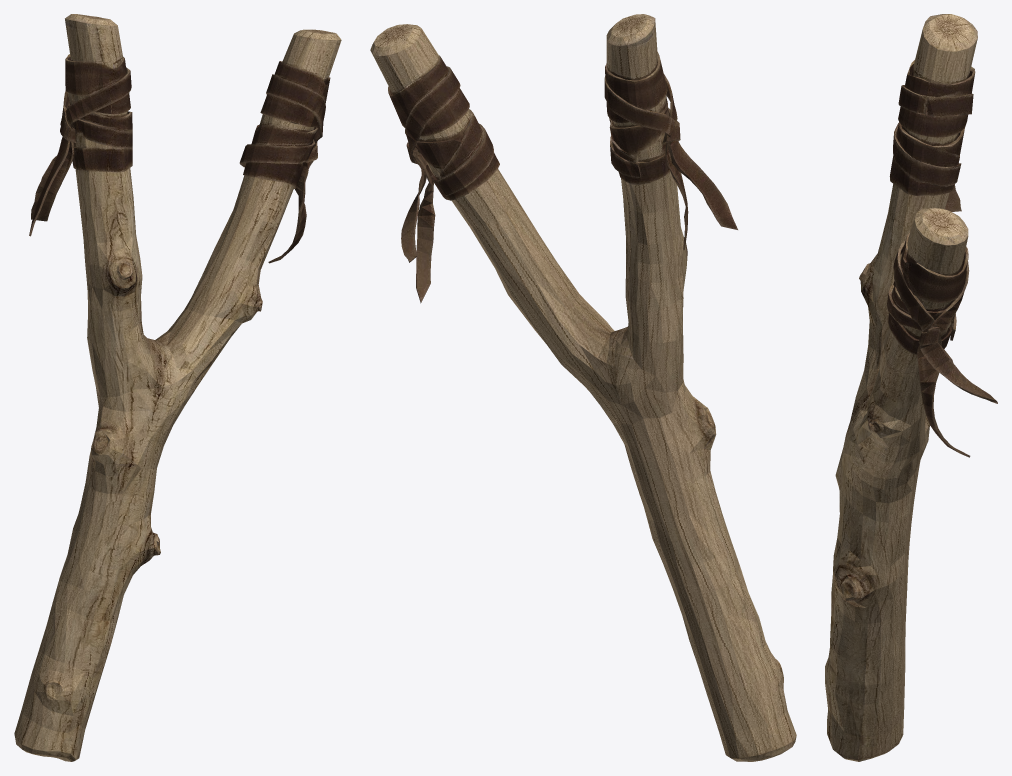
Rendered from ewm_dowsingrod.glb.
3 views of the same model, side by side, from view 1: azimuth 30°, elevation 25°; view 2: azimuth 150°, elevation 25°; view 3: azimuth 270°, elevation 25° (orthographic). The views are drawn at different scales.
Parts seen in each view (by area): view 1: ewm_dowsingrod; view 2: ewm_dowsingrod; view 3: ewm_dowsingrod.
Boxes of the visible parts, <box> form: ewm_dowsingrod: <box>14,14,341,761</box>; ewm_dowsingrod: <box>370,14,796,761</box>; ewm_dowsingrod: <box>825,14,997,761</box>.
Bounding box in the file's own units: 0.238 × 0.45 × 0.0912.
Materials: 1 (1 with a texture image).
